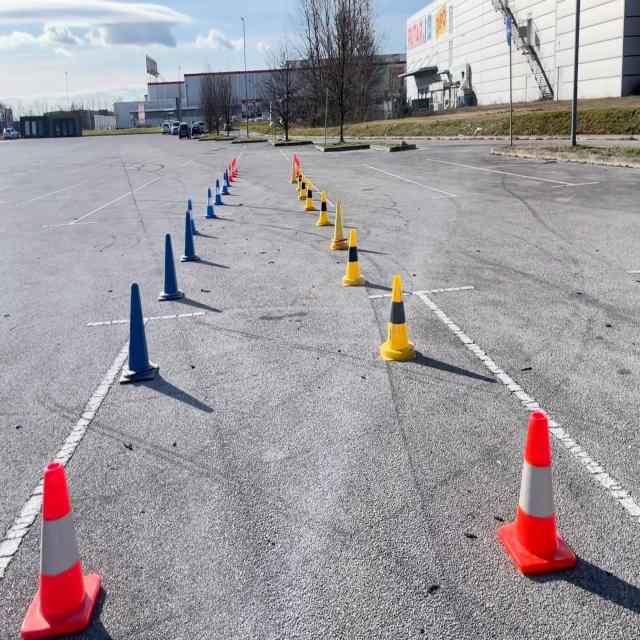blue_cone: (120, 283, 158, 385), (159, 232, 184, 303), (181, 212, 200, 262), (205, 187, 215, 218), (189, 199, 197, 235), (213, 179, 224, 204), (220, 172, 229, 193), (227, 168, 231, 186)
orange_cone: (21, 460, 101, 639), (498, 410, 577, 575), (229, 164, 234, 181), (234, 158, 238, 172), (232, 162, 235, 177), (296, 158, 298, 173), (294, 157, 296, 170), (294, 153, 295, 167)
yellow_cone: (379, 275, 417, 361), (341, 229, 366, 288), (331, 199, 349, 252), (316, 190, 332, 226), (304, 181, 316, 211), (298, 174, 307, 201), (289, 161, 297, 184), (296, 168, 302, 191)
